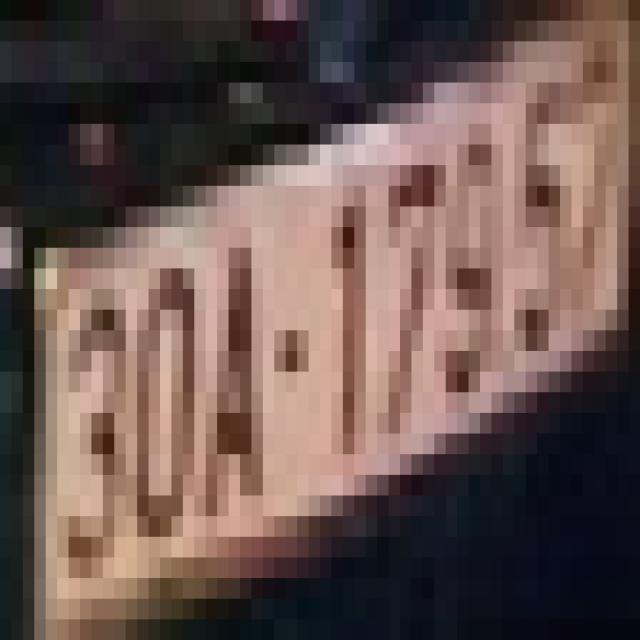1: (320, 186, 366, 454)
3: (57, 289, 126, 578)
5: (514, 83, 572, 351)
7: (377, 165, 434, 434)
9: (434, 145, 503, 392)
A: (206, 227, 263, 516)
D: (126, 268, 194, 537)
